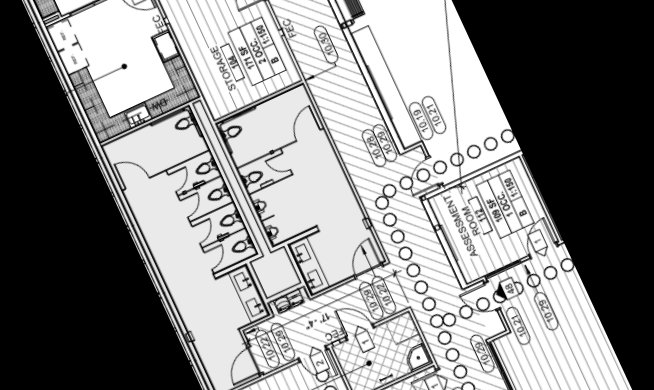door: (359, 54, 399, 124), (514, 211, 563, 262), (397, 153, 445, 200), (456, 277, 503, 325), (341, 235, 386, 281), (282, 100, 325, 148), (219, 344, 263, 389), (297, 344, 340, 390), (334, 297, 376, 341), (407, 366, 453, 390), (262, 149, 295, 180), (114, 0, 159, 22), (201, 241, 232, 272), (177, 189, 208, 220), (189, 216, 220, 246), (165, 163, 195, 194)
double door: (112, 152, 153, 193), (210, 0, 271, 16)
window: (433, 218, 463, 266)
